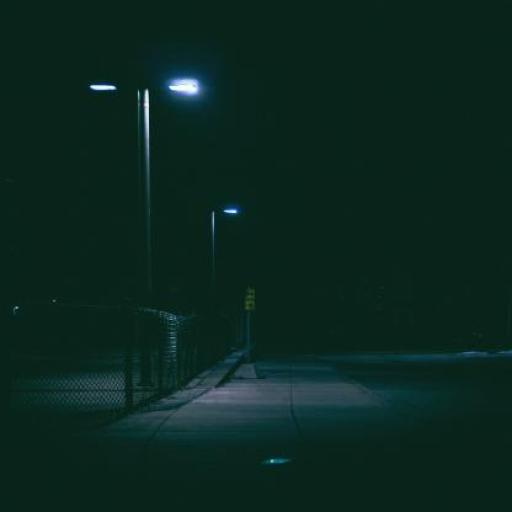street light: (90, 80, 199, 391), (208, 207, 239, 356), (12, 307, 20, 318)
